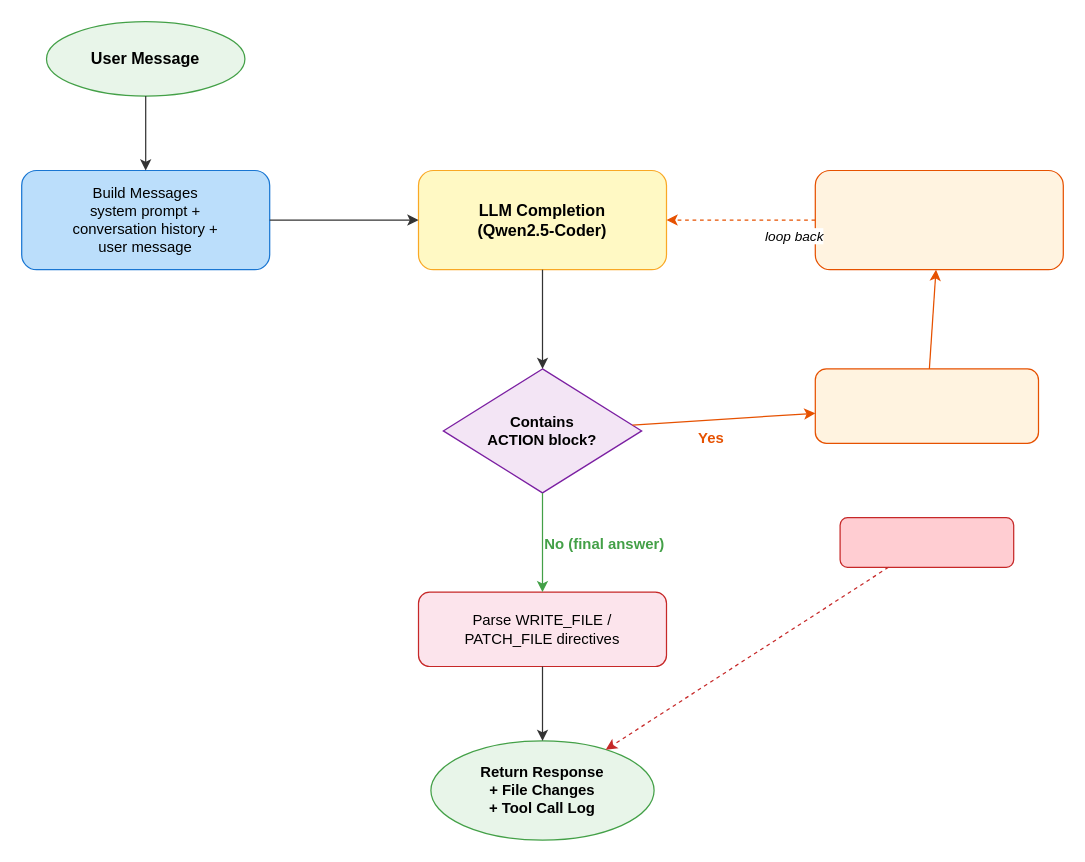
The diagram is 1085 pixels wide and 862 high, and some of its shapes have lost their labels. The shapes that lost their labels are listed below. From the top down, each one's centre as x and y in pixels, then its label:
point (938, 219): Append to messages: assistant response + OBSERVATION: result
point (926, 405): Execute Tool _execute_tool()
point (926, 541): Max 10 rounds guard
